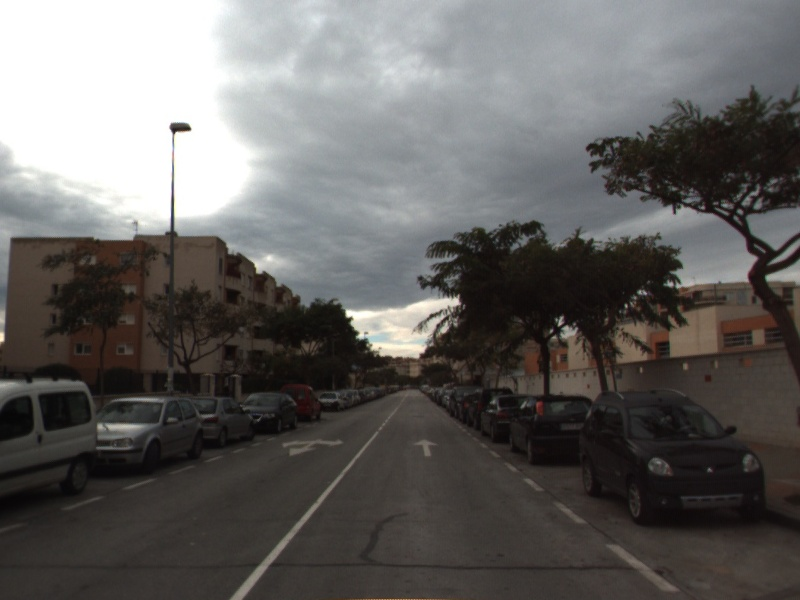STRAIGHT: (411, 437, 440, 458)
